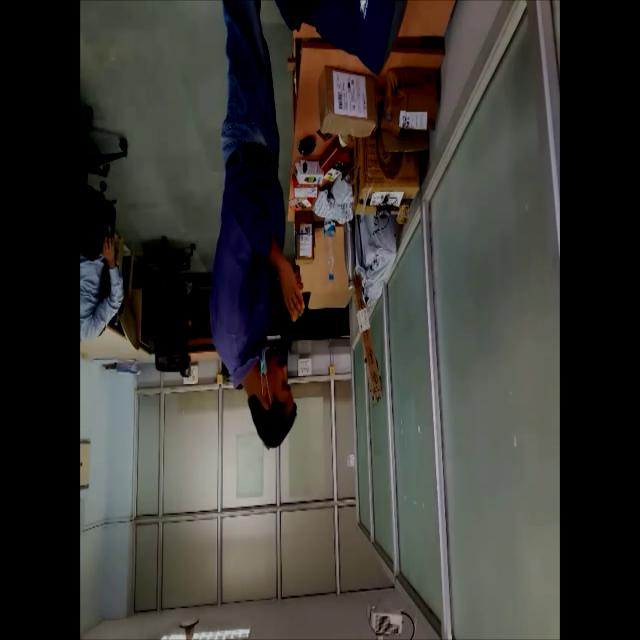normal: (201, 0, 312, 461)
